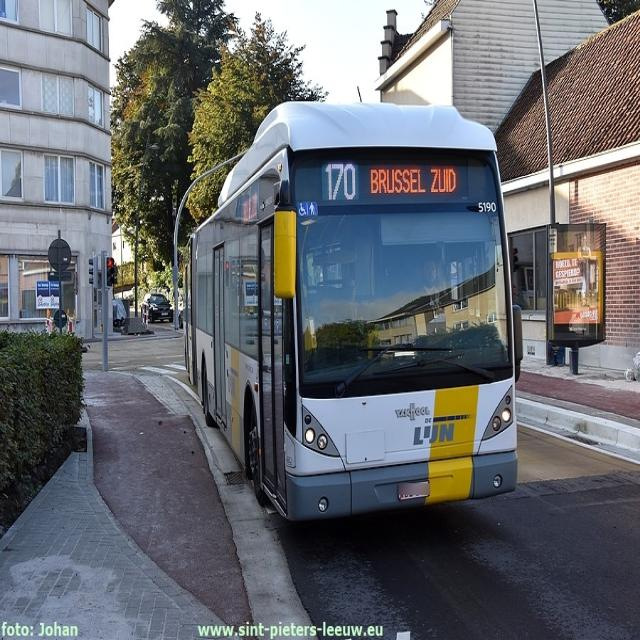bus-number: (322, 162, 359, 204)
